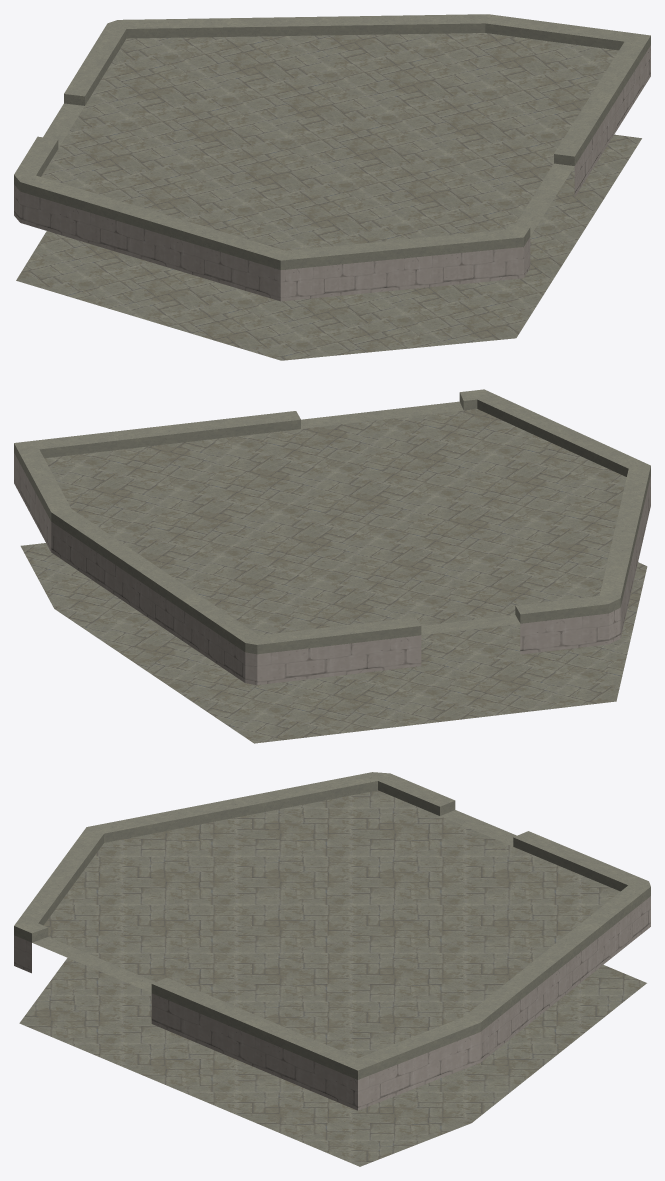
The model's file is AD_Ground_I_01.fbx.
3 views of the same model, one above another, from view 1: azimuth 30°, elevation 25°; view 2: azimuth 150°, elevation 25°; view 3: azimuth 270°, elevation 25° (orthographic).
Parts seen in each view (by area): view 1: AD_Ground_I_01; view 2: AD_Ground_I_01; view 3: AD_Ground_I_01.
Boxes of the visible parts, bbox=[...] form: AD_Ground_I_01: bbox=[14, 14, 650, 360]; AD_Ground_I_01: bbox=[14, 389, 650, 743]; AD_Ground_I_01: bbox=[14, 772, 650, 1166].
Bounding box in the file's own units: 6172 × 963 × 5565.
Materials: 3 (3 with a texture image).
